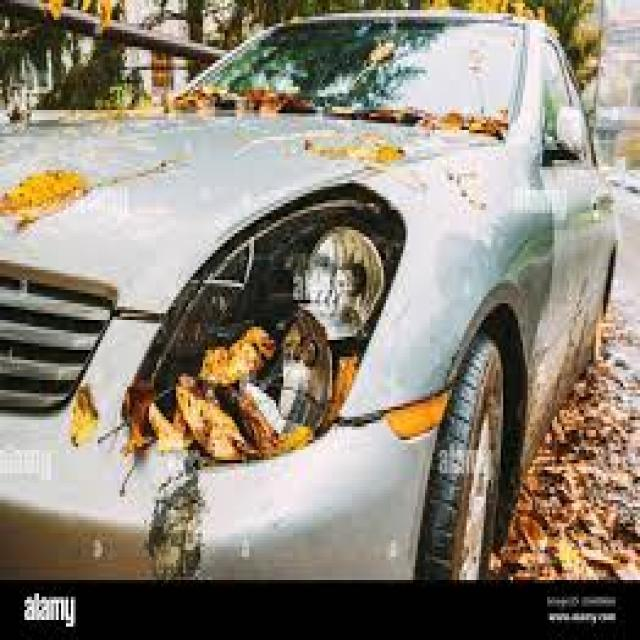damaged-head-light: (140, 182, 404, 472)
